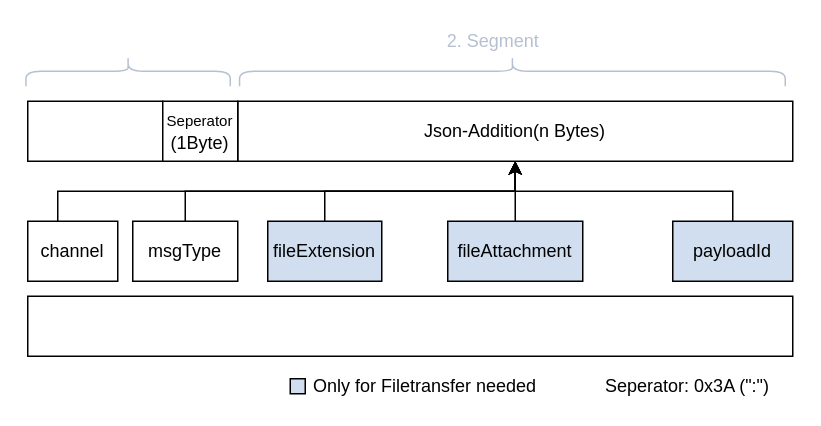
This 821x426 diagram has some shape labels left out. The centre of each missing label's shape, as x and y in pixels:
1. Segment: pixel 127 70
Payload: pixel 409 325
Payload Begin (3Bytes): pixel 94 130
